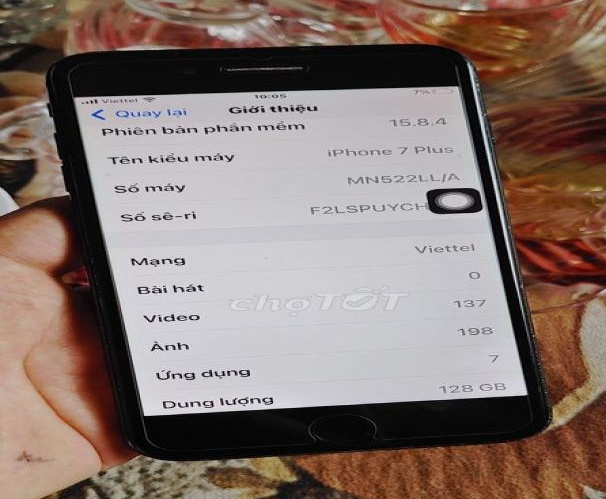scratch: (503, 307, 572, 417), (459, 66, 520, 170), (39, 186, 99, 214), (486, 266, 533, 297), (100, 433, 155, 459)
